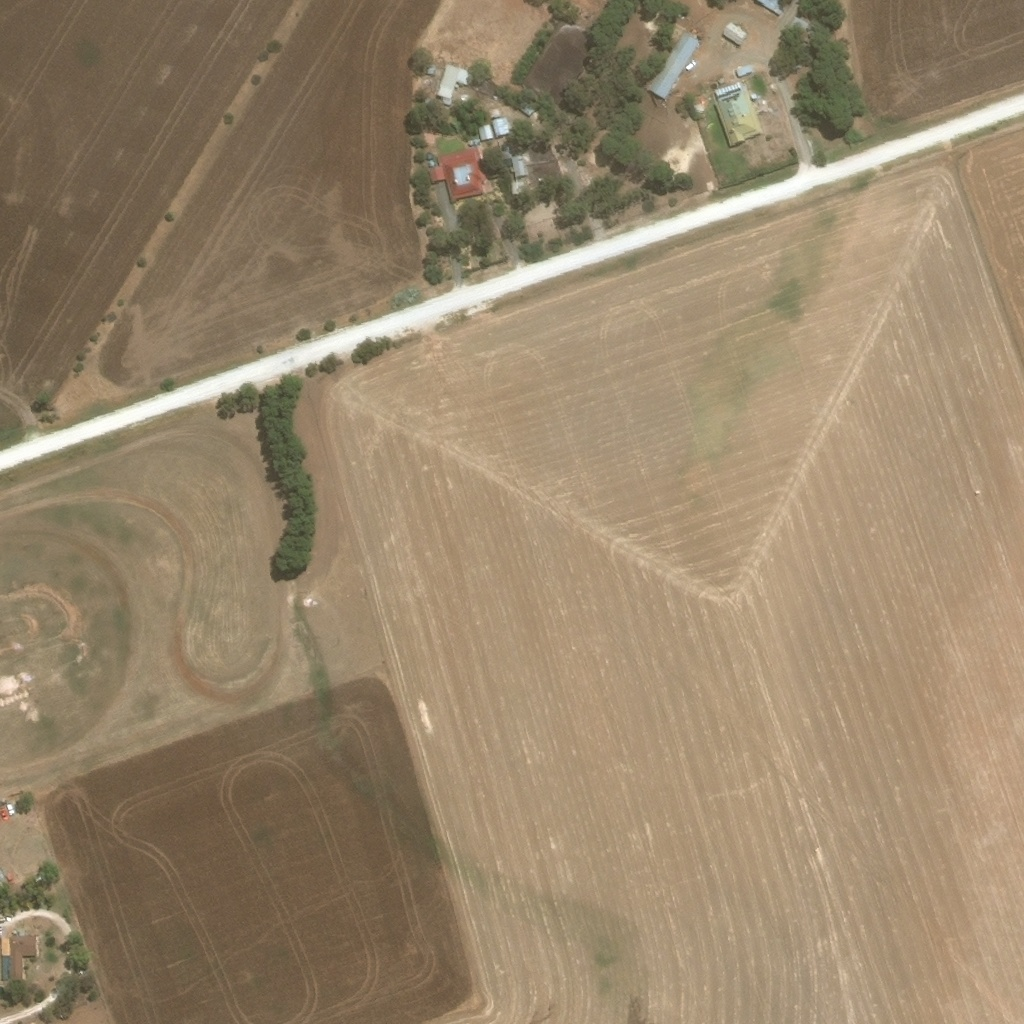0 no-damage: (647, 31, 700, 99), (427, 146, 486, 202), (714, 80, 762, 148), (435, 63, 471, 100), (9, 936, 35, 979), (721, 20, 746, 44), (504, 155, 527, 176), (489, 116, 508, 139), (792, 15, 812, 33), (478, 123, 492, 141), (734, 65, 751, 77), (510, 180, 524, 194), (520, 103, 534, 116), (0, 936, 9, 956)
